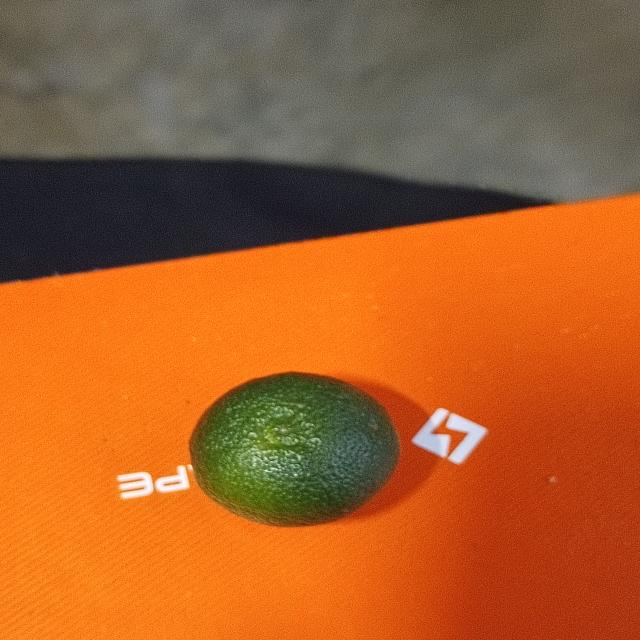heathy: (185, 371, 411, 534)
